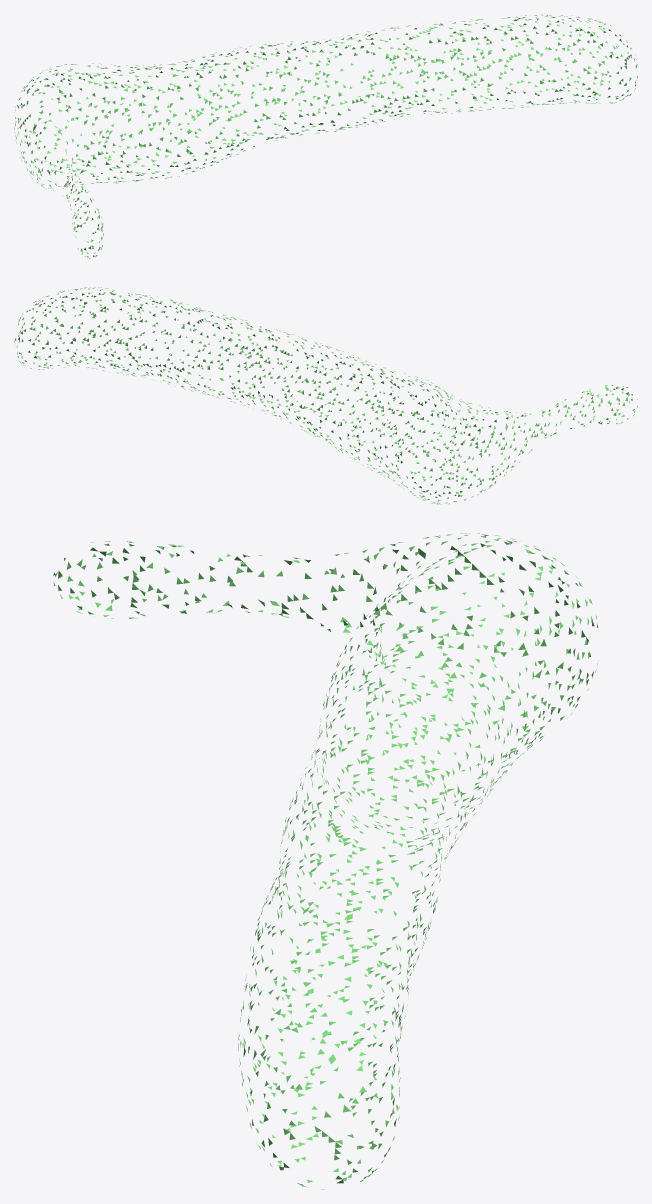
File: morph_017.glb
The picture shows the model from 3 angles, top to bottom: view 1: azimuth 30°, elevation 25°; view 2: azimuth 150°, elevation 25°; view 3: azimuth 270°, elevation 25°; orthographic projection. The views are drawn at different scales.
Size of the model in its own units: 120 by 21.61 by 51.39.
